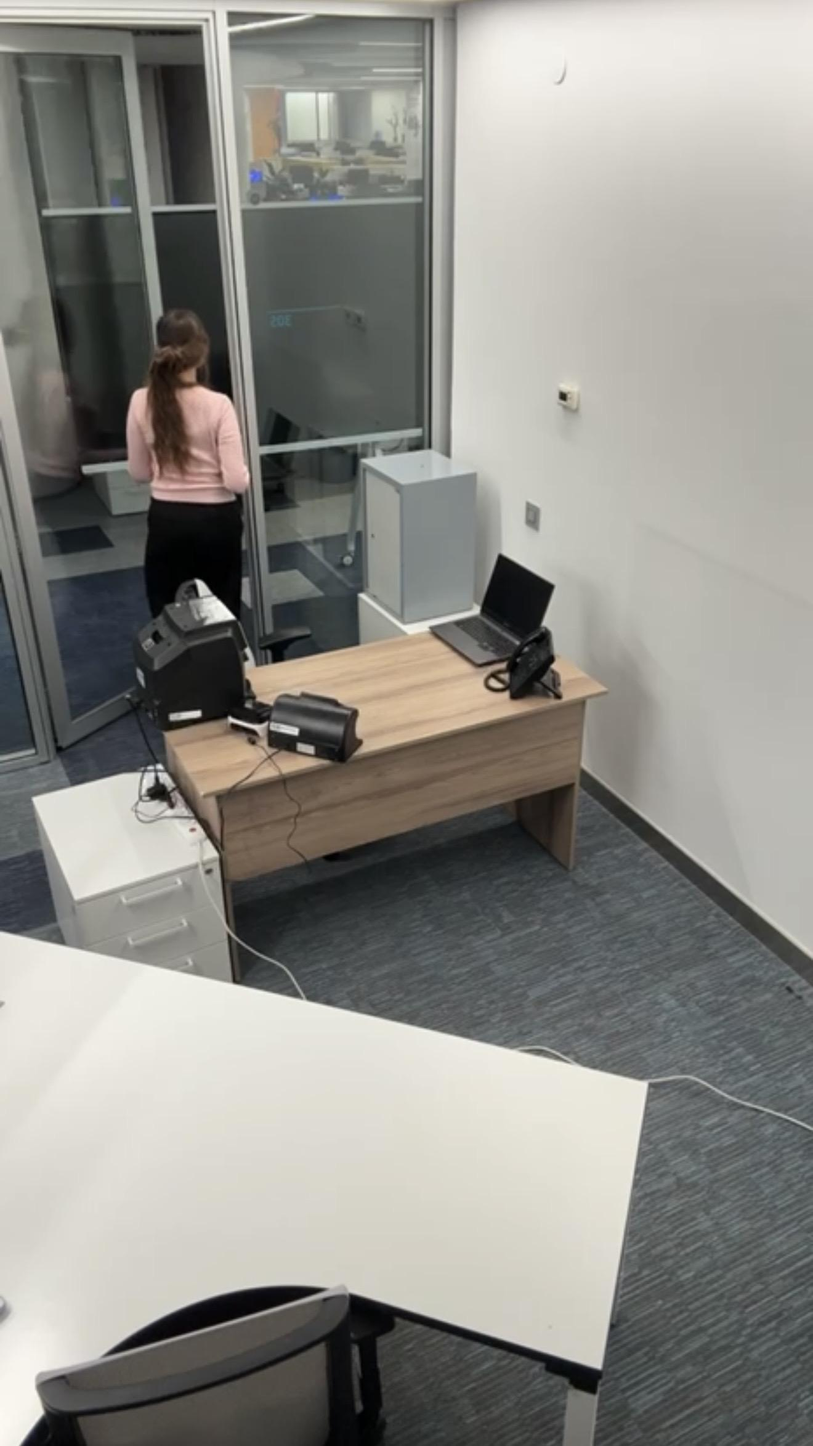counter: (144, 602, 248, 713)
door_open: (0, 12, 275, 665)
uv_lamp: (267, 696, 367, 750)
